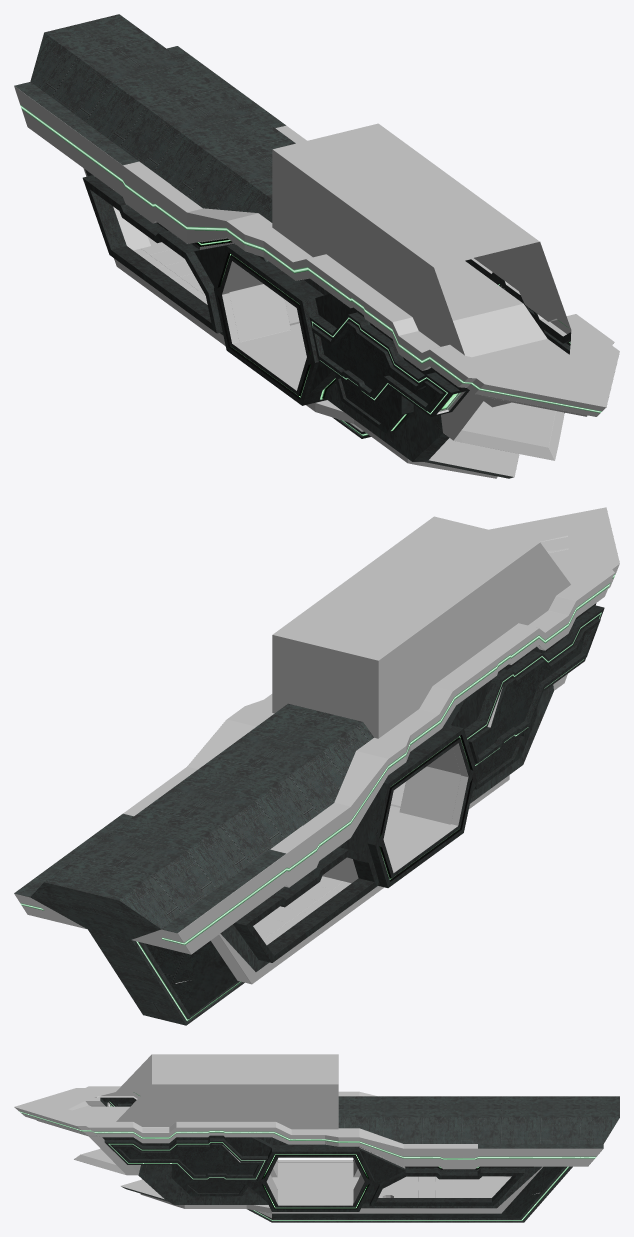
Rendered from DepotCutoutObjects.fbx.
3 views of the same model, one above another, from view 1: azimuth 30°, elevation 25°; view 2: azimuth 150°, elevation 25°; view 3: azimuth 270°, elevation 25° (orthographic). The views are drawn at different scales.
Parts seen in each view (by area): view 1: Core, Plane.036; view 2: Core, Plane.036; view 3: Core, Plane.036.
Boxes of the visible parts, box(x1,y1,x2,y2) form: Core: box(14, 14, 619, 478); Plane.036: box(133, 236, 207, 304); Core: box(14, 507, 619, 1025); Plane.036: box(175, 876, 351, 983); Core: box(14, 1054, 619, 1222); Plane.036: box(378, 1176, 539, 1197).
Size of the model in its own units: 910 by 1355 by 5047.
